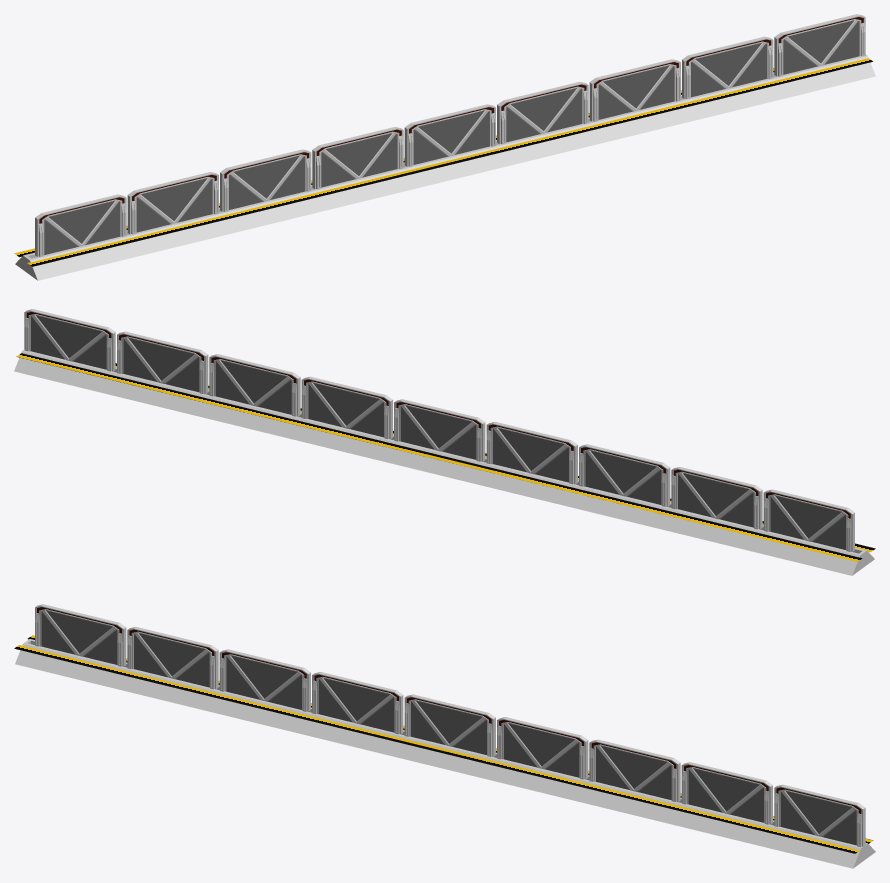
File: BarriereZonaAtterr.fbx
3 renders of one model, top to bottom at view 1: azimuth 30°, elevation 25°; view 2: azimuth 150°, elevation 25°; view 3: azimuth 330°, elevation 25°, orthographic.
Parts seen in each view (by area): view 1: Cube.001; view 2: Cube.001; view 3: Cube.001.
Boxes of the visible parts, <box> form: Cube.001: <box>14,14,875,280</box>; Cube.001: <box>14,309,875,575</box>; Cube.001: <box>14,604,875,868</box>.
Size of the model in its own units: 5044 by 313 by 238.
